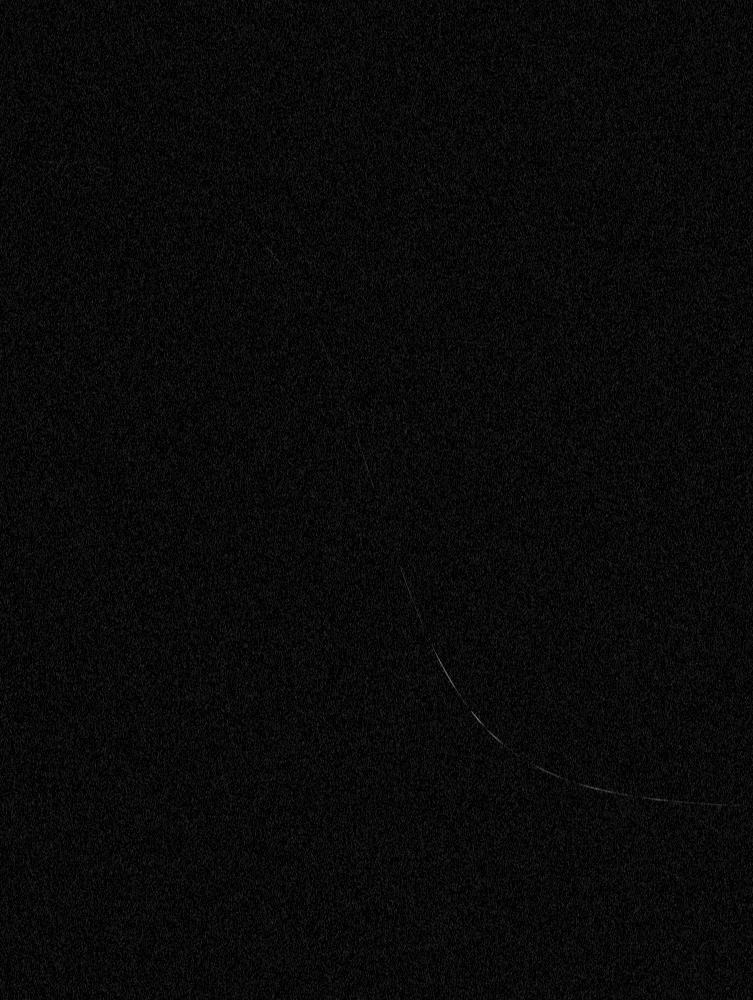signal: (0, 0, 752, 999)
